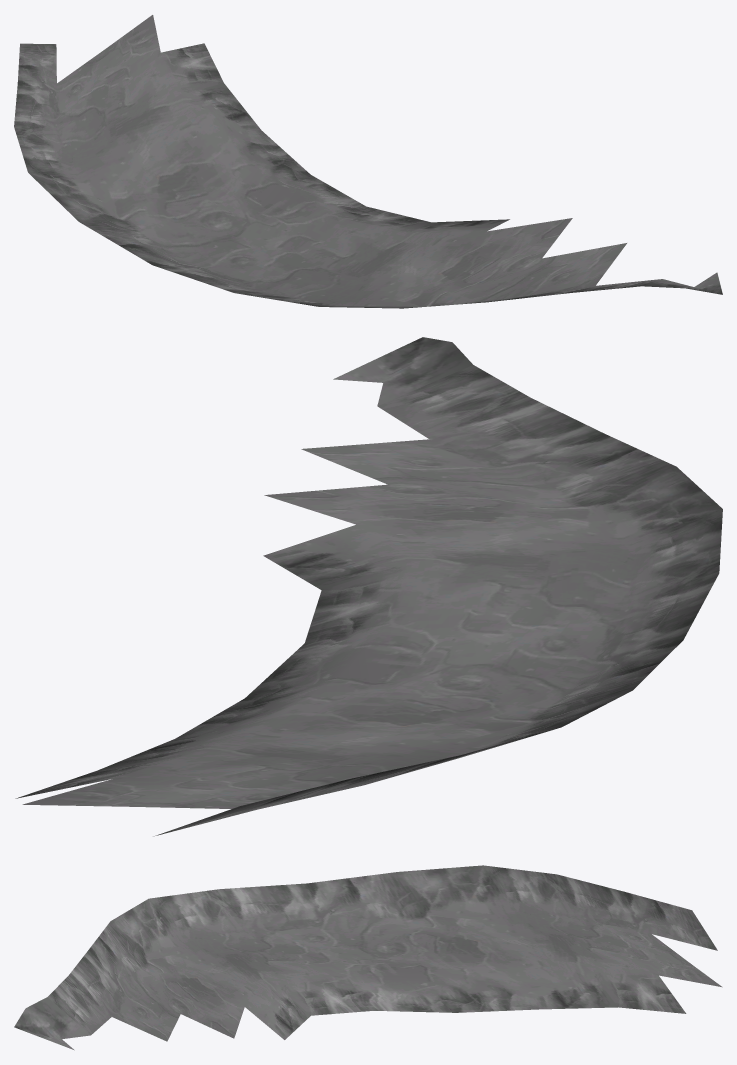
Rendered from SWORDLIGHT20_PS-AREA03_144.fbx.
3 renders of one model, top to bottom at view 1: azimuth 30°, elevation 25°; view 2: azimuth 150°, elevation 25°; view 3: azimuth 270°, elevation 25°, orthographic. The views are drawn at different scales.
Visible parts, largest first — view 1: SWORDLIGHT20_PS-AREA03_144; view 2: SWORDLIGHT20_PS-AREA03_144; view 3: SWORDLIGHT20_PS-AREA03_144.
Boxes of the visible parts, <box> form: SWORDLIGHT20_PS-AREA03_144: <box>14,15,722,308</box>; SWORDLIGHT20_PS-AREA03_144: <box>15,337,722,836</box>; SWORDLIGHT20_PS-AREA03_144: <box>14,865,722,1050</box>.
Bounding box in the file's own units: 94002 × 12245 × 164854.
Materials: 1 (1 with a texture image).
